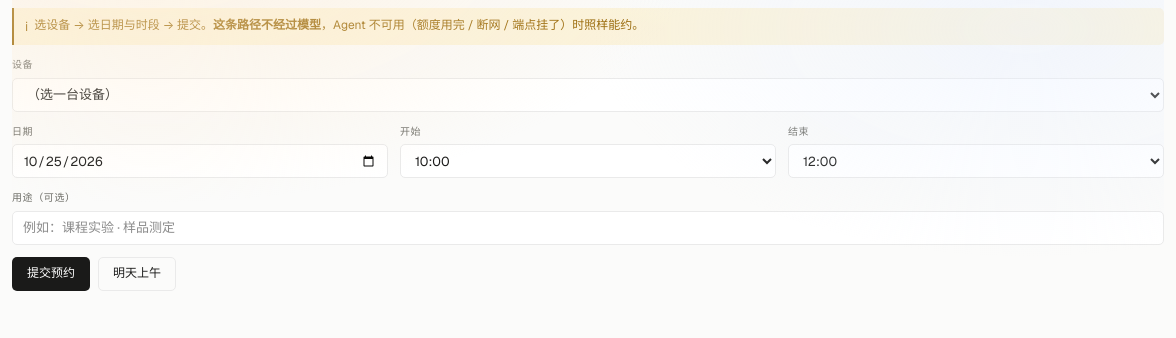
it: BookPane › 409 时补一句'换个时段'，而不是只说失败
The width and height of the screenshot is (1176, 338).
Select "荧光光谱仪 · SPEC-F7000" in the dropdown labelled "设备" at (588, 95), box [12,78,1164,112]
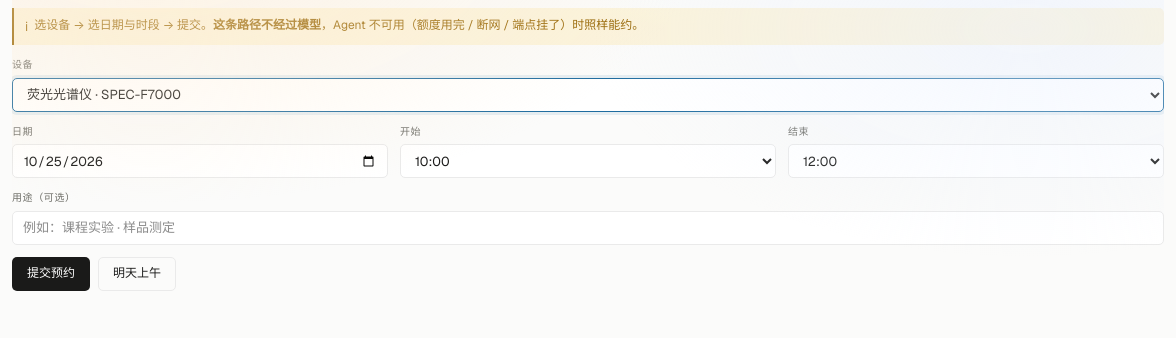
Click the button "提交预约" at (51, 274), box [12,257,90,291]
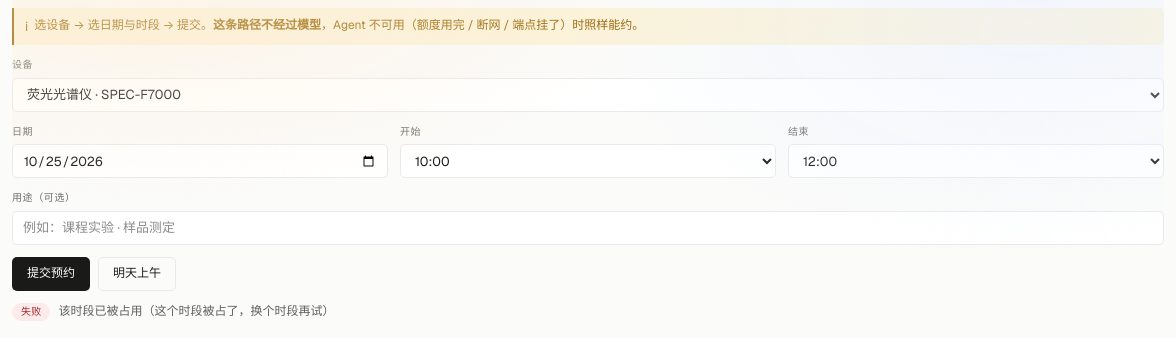
Now the text "该时段已被占用（这个时段被占了，换个时段再试）" is shown, box [58,303,334,320]
